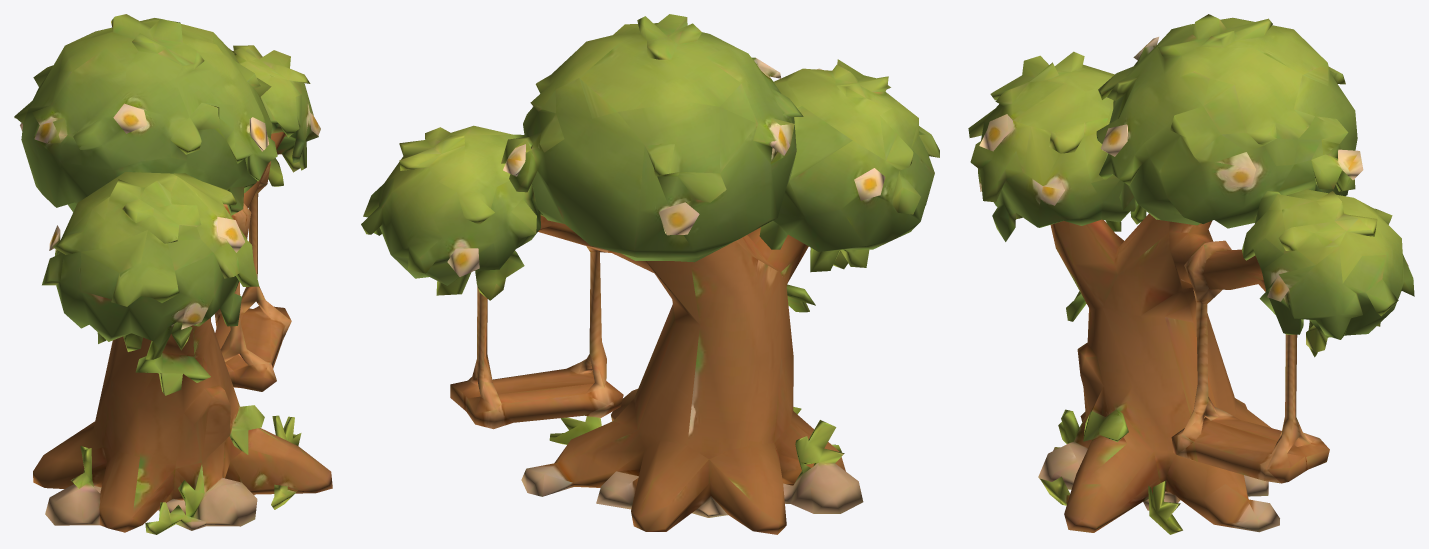
3 renders of one model, left to right at view 1: azimuth 30°, elevation 25°; view 2: azimuth 150°, elevation 25°; view 3: azimuth 270°, elevation 25°, orthographic. The views are drawn at different scales.
Visible parts, largest first — view 1: tree-swing; view 2: tree-swing; view 3: tree-swing.
Boxes of the visible parts, bbox=[...] form: tree-swing: bbox=[14, 14, 332, 534]; tree-swing: bbox=[361, 14, 939, 534]; tree-swing: bbox=[968, 14, 1414, 534].
Size of the model in its own units: 4.58 by 4.99 by 4.44.
Materials: 1 (1 with a texture image).
